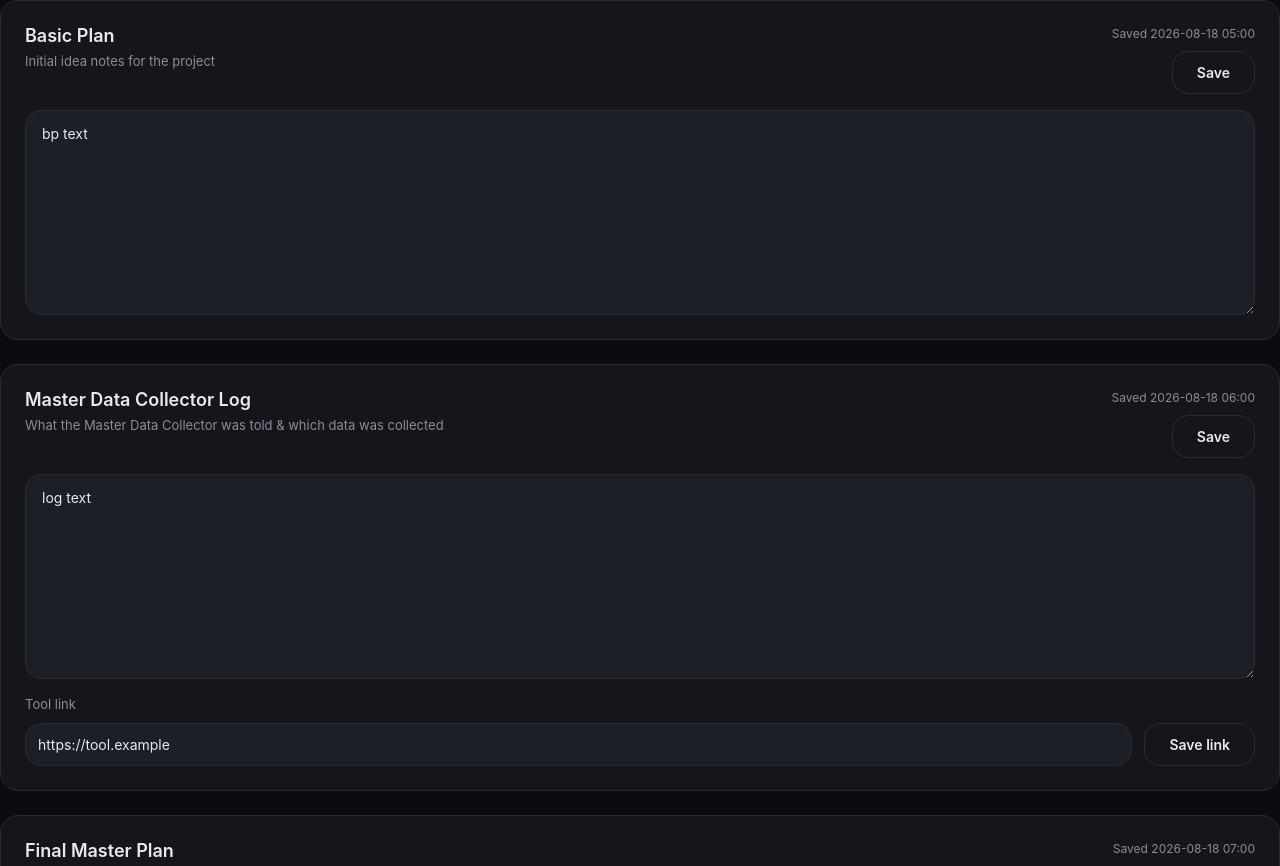
PlanTab — 4 sub-sections load/save › saves one field via PATCH and updates only that section timestamp
The width and height of the screenshot is (1280, 866).
Step 1. Replace the text in the text box named "Basic Plan" with "updated bp" → {"x": 640, "y": 213}, box top-left (25, 110), bottom-right (1255, 315)
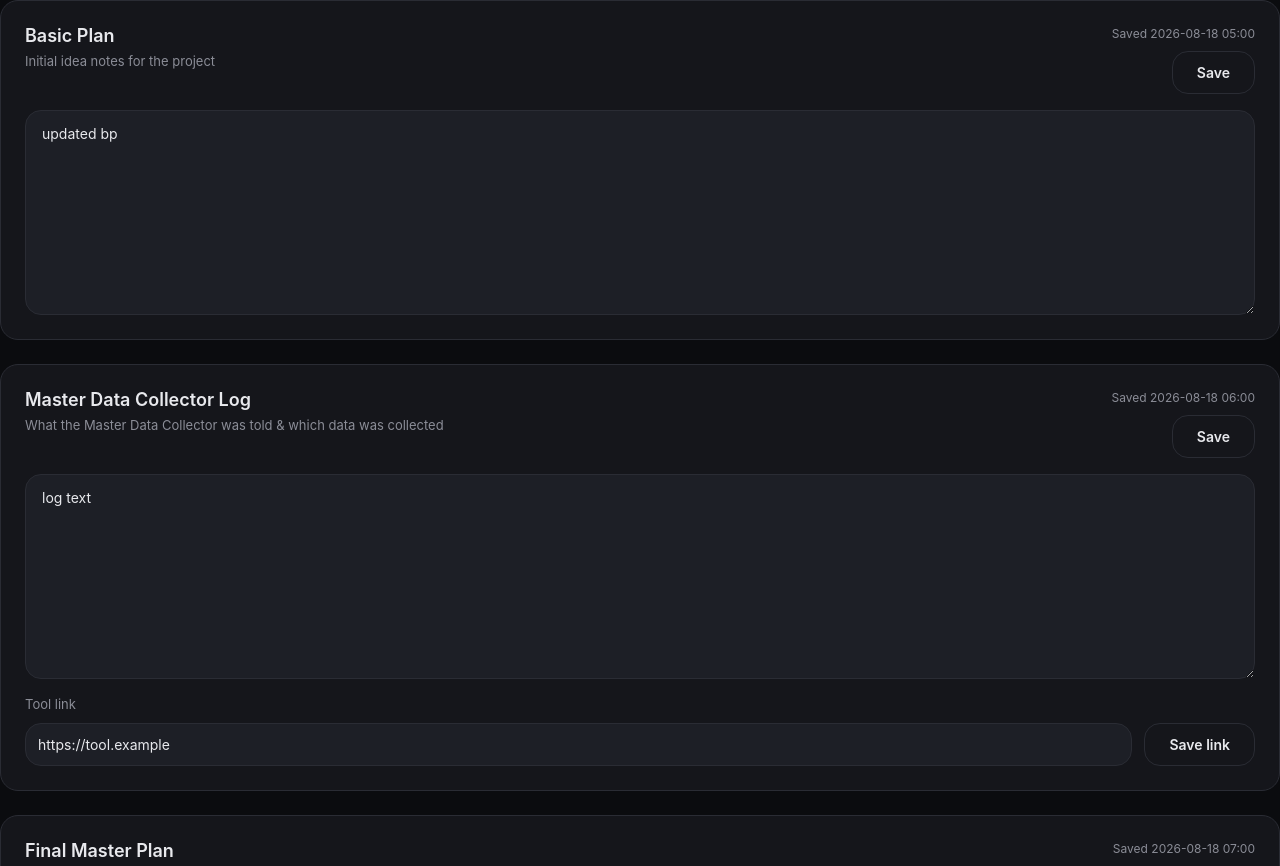
Step 2. Click the button with test id "save-basic_plan" → {"x": 1213, "y": 72}, box top-left (1172, 51), bottom-right (1255, 94)
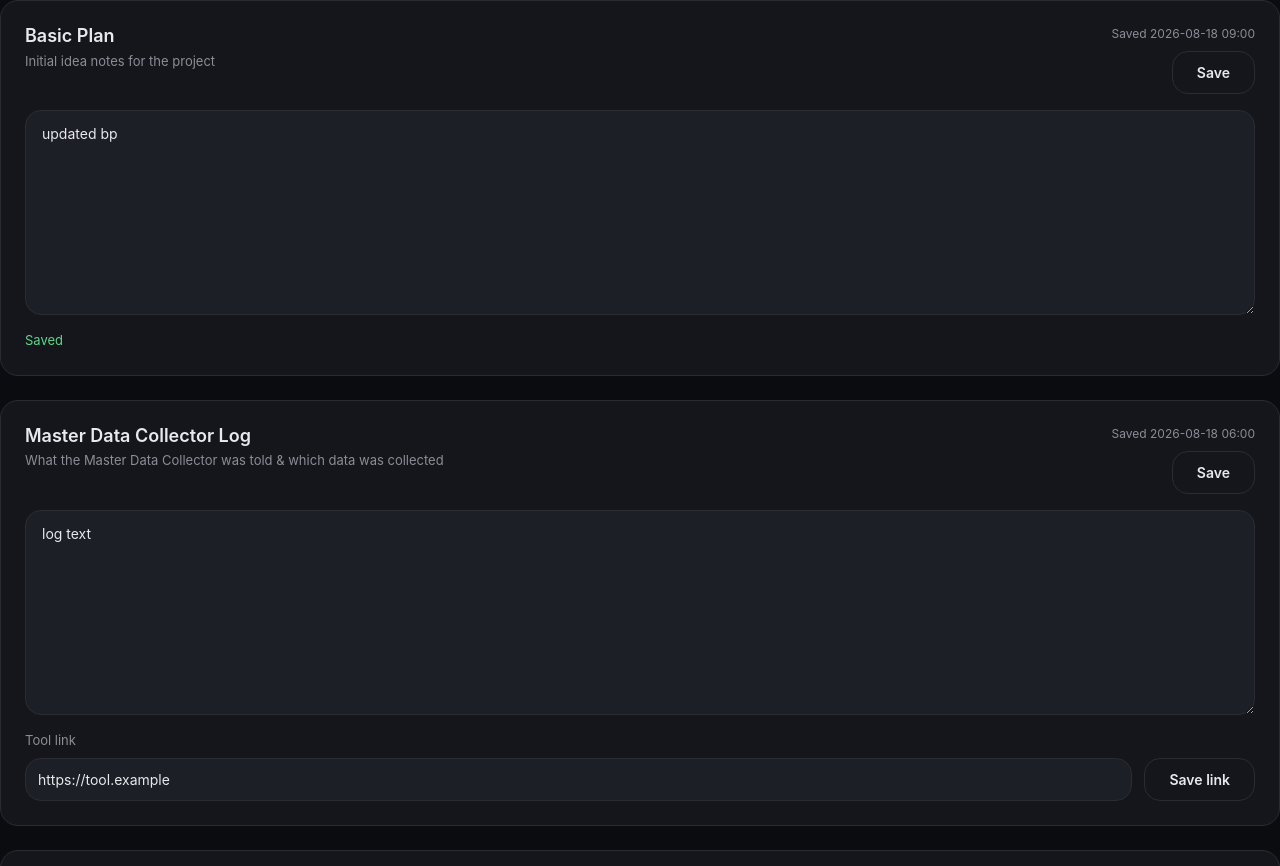
Now the text "Saved 2026-08-18 09:00" is shown, box top-left (1112, 25), bottom-right (1255, 43)
